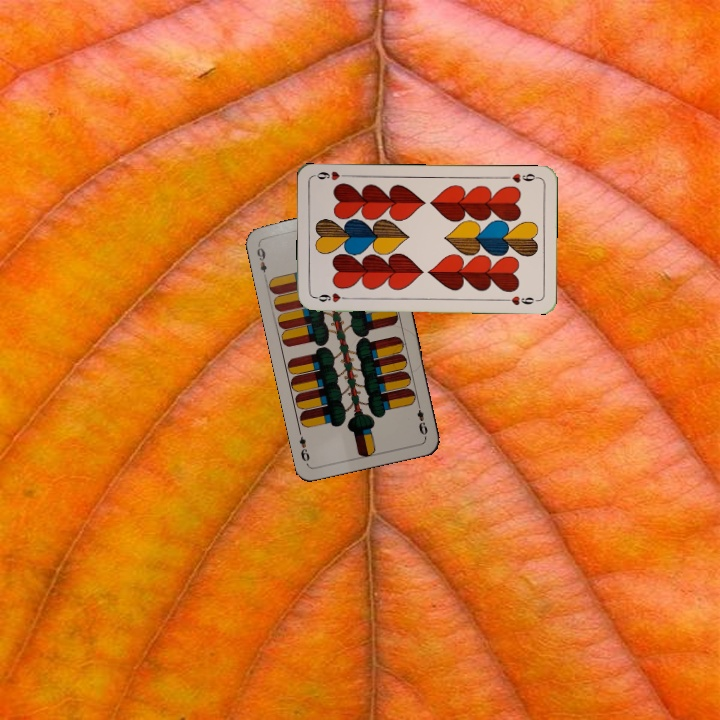E9: (253, 241, 269, 282), (413, 399, 430, 437)
H9: (501, 169, 541, 185), (311, 289, 351, 305)
